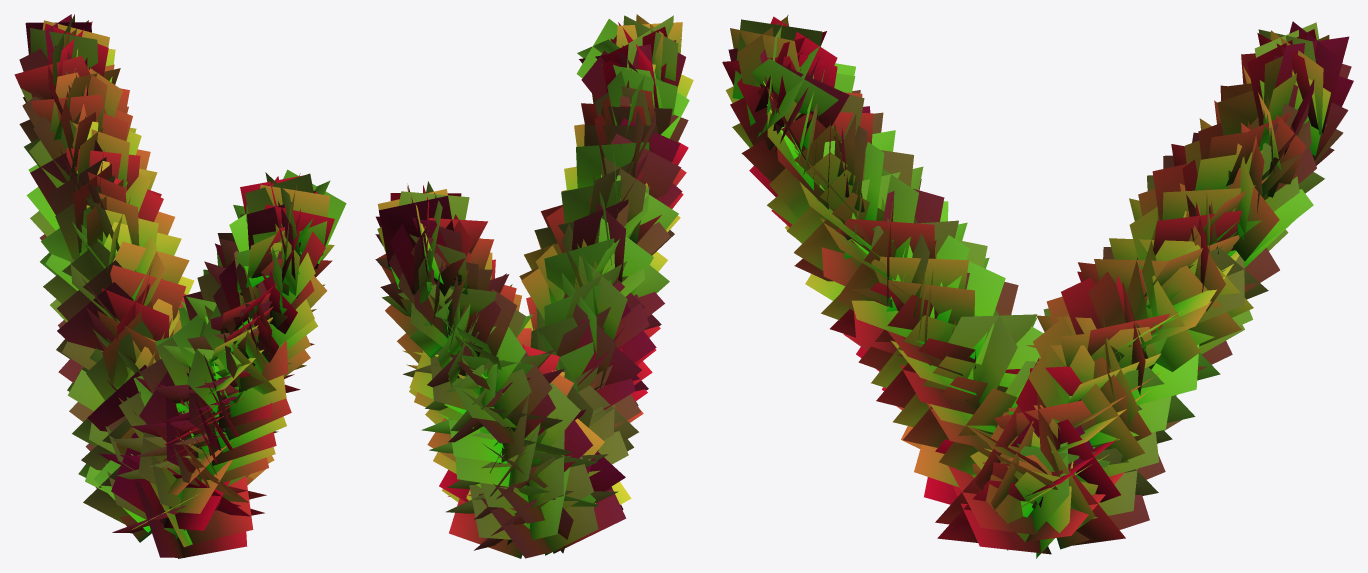
The model's file is URP_P4_Tree_12_LOD_2.fbx.
3 views of the same model, side by side, from view 1: azimuth 30°, elevation 25°; view 2: azimuth 150°, elevation 25°; view 3: azimuth 270°, elevation 25° (orthographic). The views are drawn at different scales.
Parts seen in each view (by area): view 1: Tree_12_LOD_2; view 2: Tree_12_LOD_2; view 3: Tree_12_LOD_2.
Boxes of the visible parts, bbox=[...] form: Tree_12_LOD_2: bbox=[14, 14, 346, 558]; Tree_12_LOD_2: bbox=[375, 14, 693, 558]; Tree_12_LOD_2: bbox=[722, 14, 1353, 558].
Size of the model in its own units: 211 by 599 by 649.
